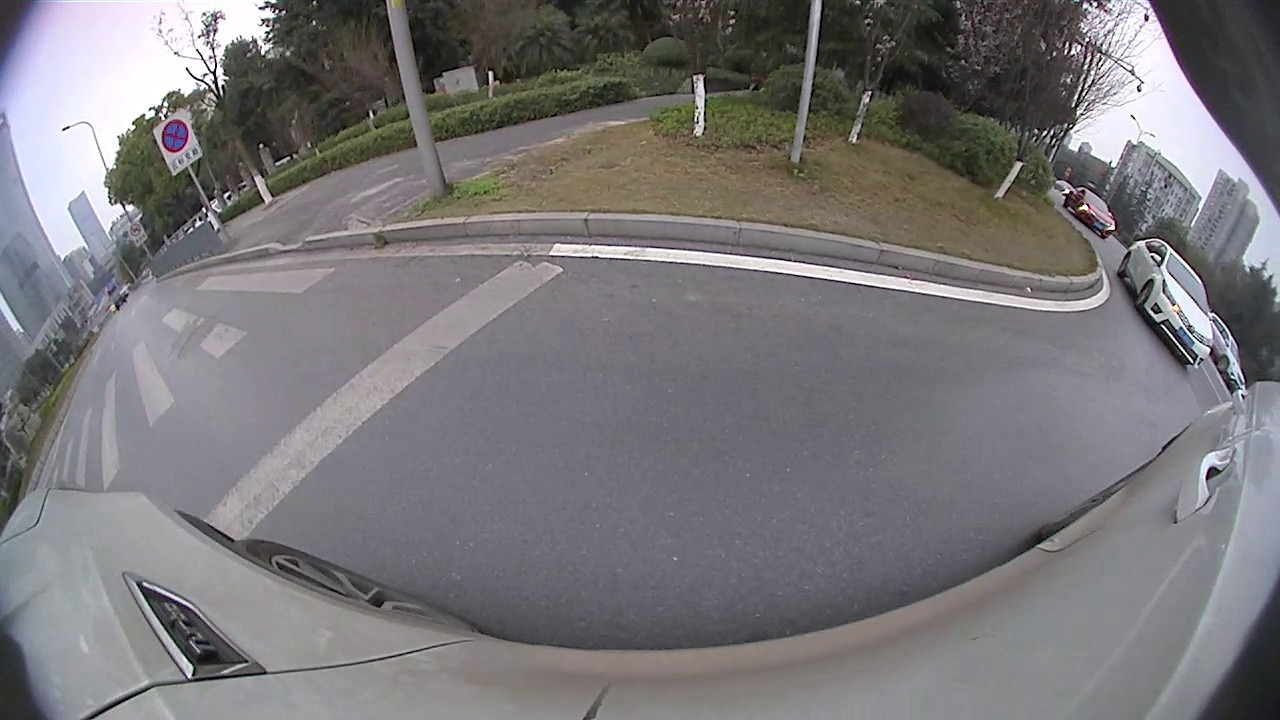car: (1118, 237, 1217, 369), (1063, 185, 1119, 241)
front: (1132, 279, 1153, 313)
rear: (1116, 250, 1133, 278)
